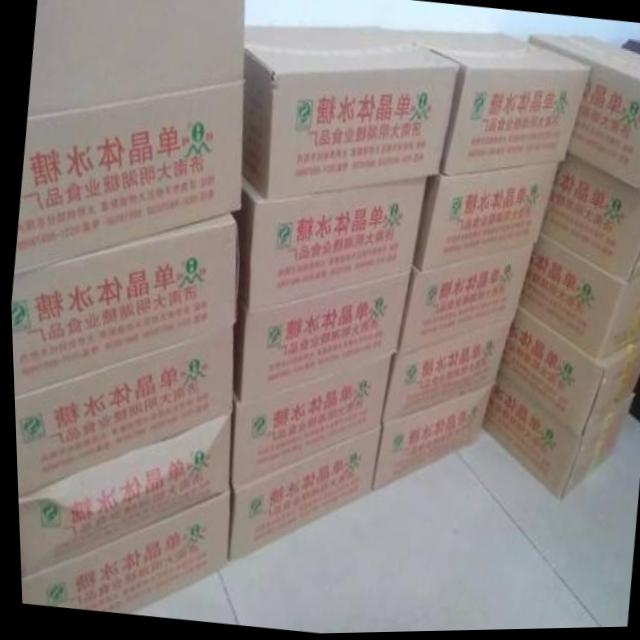box: (13, 0, 245, 273), (9, 214, 233, 397), (240, 27, 461, 201), (12, 324, 232, 495), (14, 411, 226, 576), (379, 32, 587, 175), (227, 177, 424, 310), (17, 491, 225, 612), (229, 275, 405, 402), (225, 355, 388, 488), (223, 427, 376, 562), (495, 304, 640, 441), (477, 376, 631, 503), (528, 35, 640, 195), (410, 163, 558, 272), (516, 235, 640, 364), (394, 246, 532, 354), (377, 321, 510, 424), (366, 385, 491, 493), (538, 154, 640, 285)
